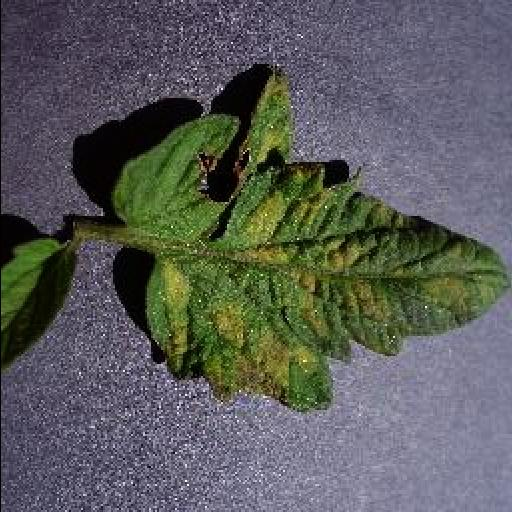disease_tomato: (106, 67, 512, 412)
